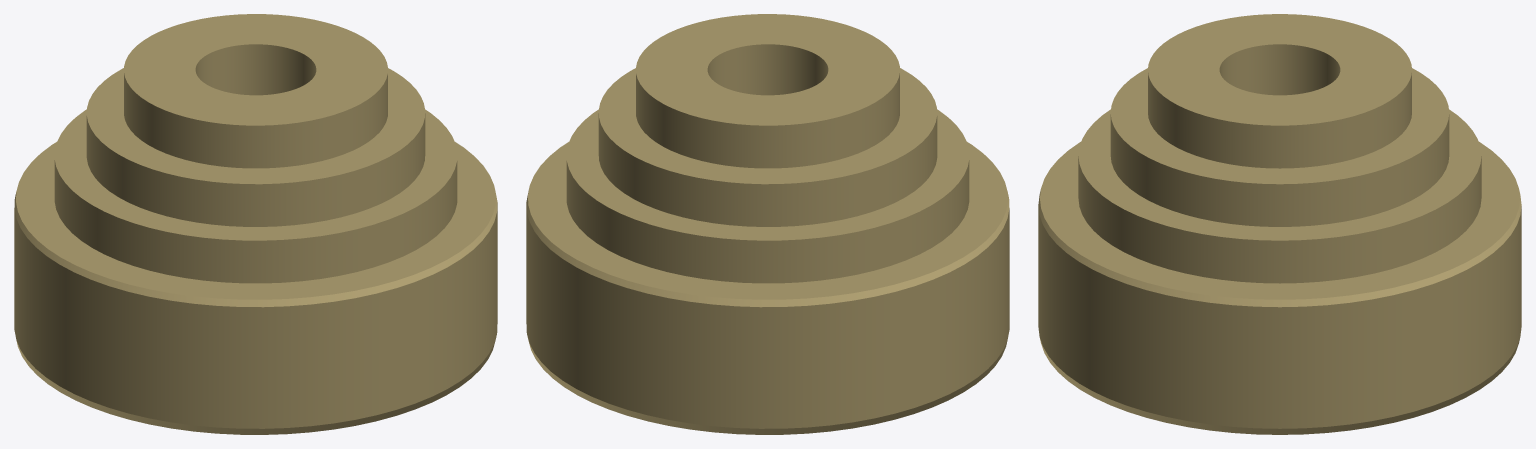
The model's file is SM_Pie3.fbx.
3 renders of one model, left to right at view 1: azimuth 30°, elevation 25°; view 2: azimuth 150°, elevation 25°; view 3: azimuth 270°, elevation 25°, orthographic.
Parts seen in each view (by area): view 1: SM_PieBottom1; view 2: SM_PieBottom1; view 3: SM_PieBottom1.
Boxes of the visible parts, bbox=[...] form: SM_PieBottom1: bbox=[14, 14, 497, 434]; SM_PieBottom1: bbox=[526, 14, 1009, 434]; SM_PieBottom1: bbox=[1038, 14, 1521, 434].
Size of the model in its own units: 25.78 by 15.52 by 25.78.
